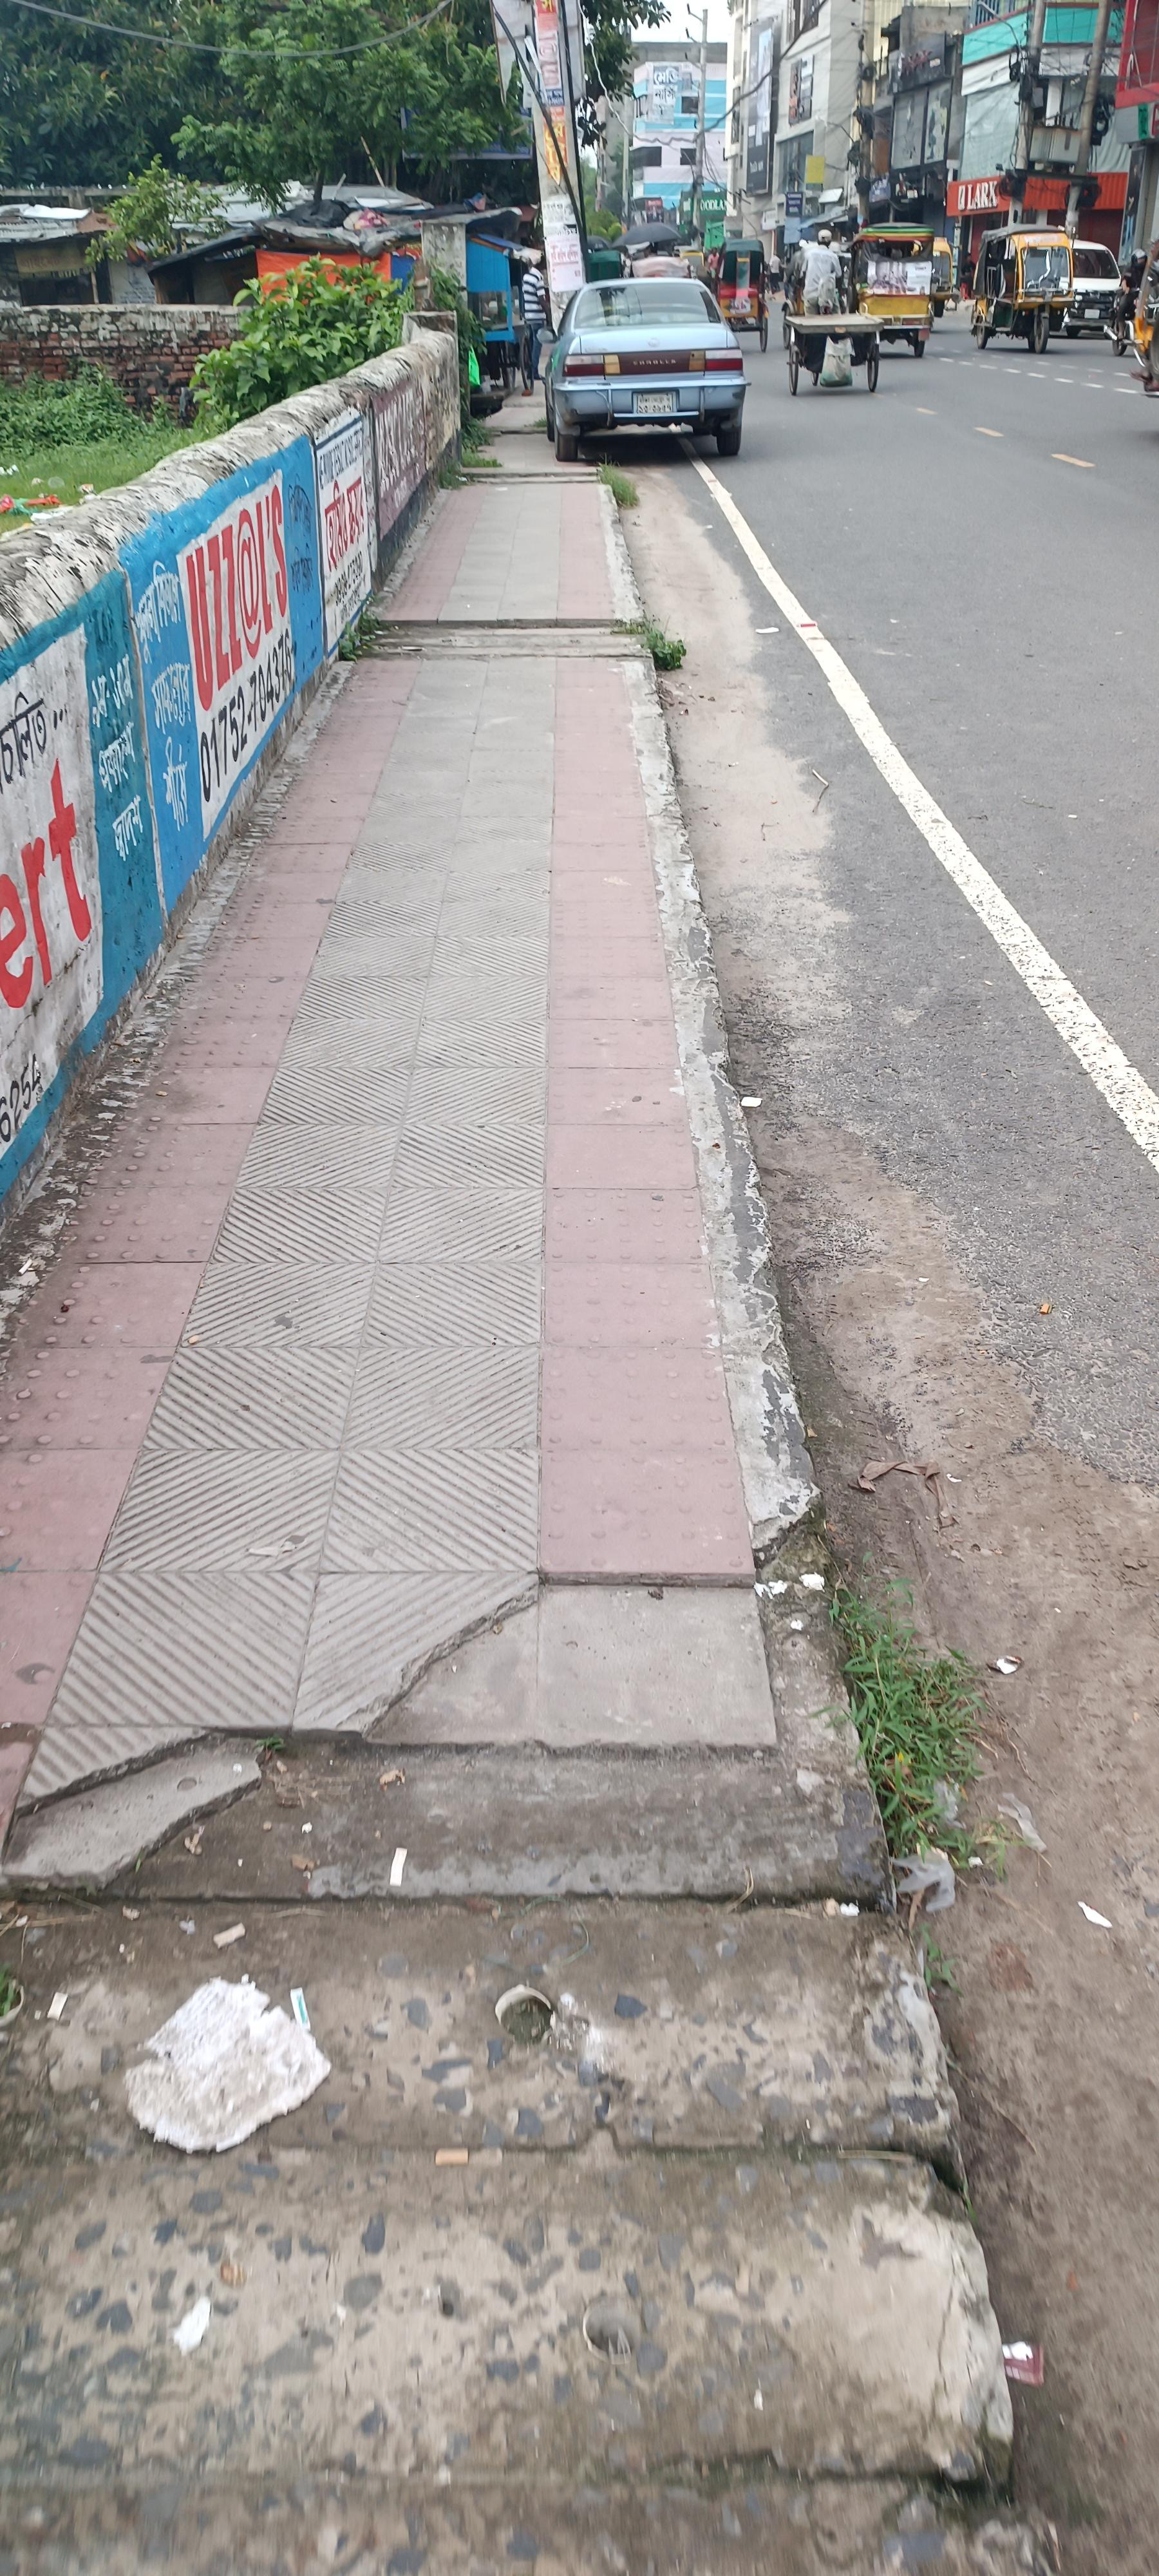Broken-road: (547, 187, 791, 540)
Garbage-bin: (517, 251, 552, 394)
Pothole: (103, 677, 967, 2576)
